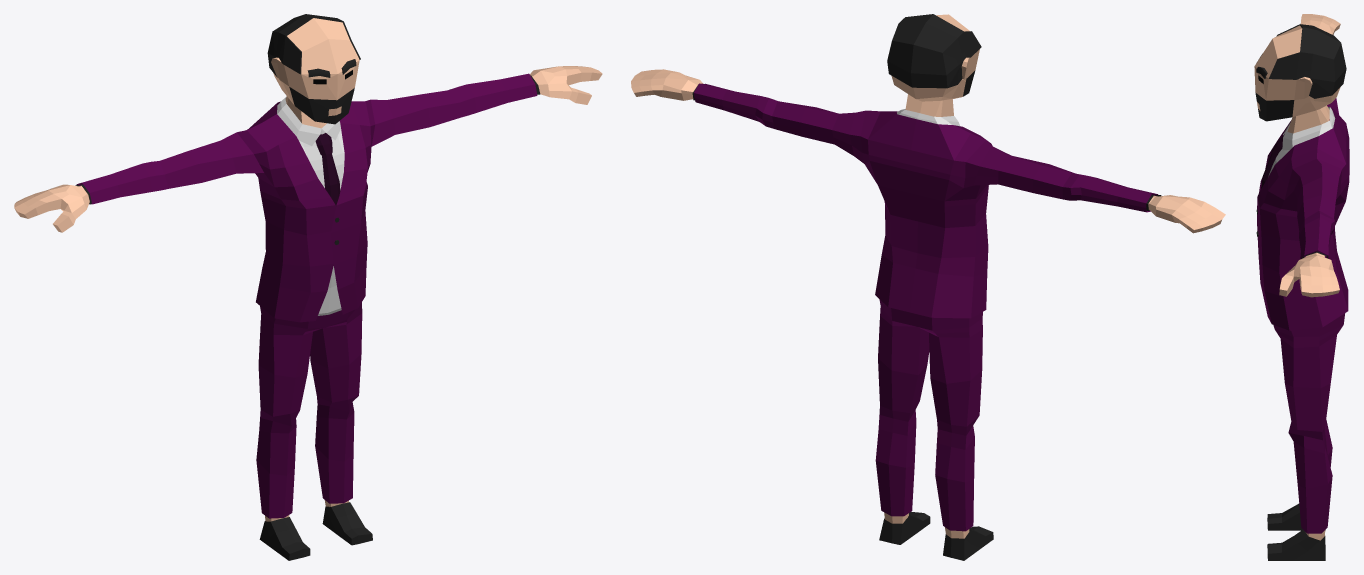
Rendered from Defendant D2 C2 M.fbx.
The picture shows the model from 3 angles, left to right: view 1: azimuth 30°, elevation 25°; view 2: azimuth 150°, elevation 25°; view 3: azimuth 270°, elevation 25°; orthographic projection. The views are drawn at different scales.
Parts seen in each view (by area): view 1: Personaje; view 2: Personaje; view 3: Personaje.
Boxes of the visible parts, bbox=[...] form: Personaje: bbox=[14, 14, 602, 560]; Personaje: bbox=[631, 14, 1225, 560]; Personaje: bbox=[1254, 14, 1349, 560].
Size of the model in its own units: 215 by 184 by 30.94.
